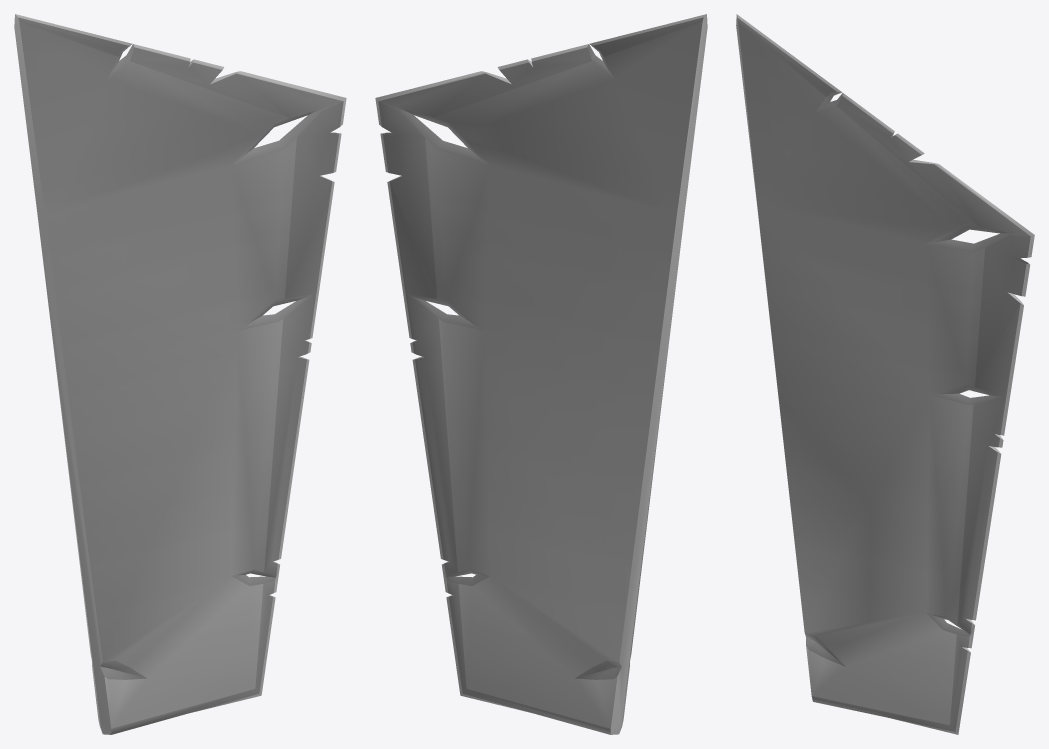
The model's file is stone_blade_scratched_045.glb.
The picture shows the model from 3 angles, left to right: view 1: azimuth 30°, elevation 25°; view 2: azimuth 150°, elevation 25°; view 3: azimuth 330°, elevation 25°; orthographic projection. The views are drawn at different scales.
Parts seen in each view (by area): view 1: stone_blade_scratched.045; view 2: stone_blade_scratched.045; view 3: stone_blade_scratched.045.
Part boxes in pixels (left/top/right/bottom): stone_blade_scratched.045: left=14, top=14, right=346, bottom=734; stone_blade_scratched.045: left=375, top=14, right=707, bottom=734; stone_blade_scratched.045: left=736, top=14, right=1034, bottom=734.
Bounding box in the file's own units: 5.55 × 11.85 × 0.374.
1 material, 1 textured.
